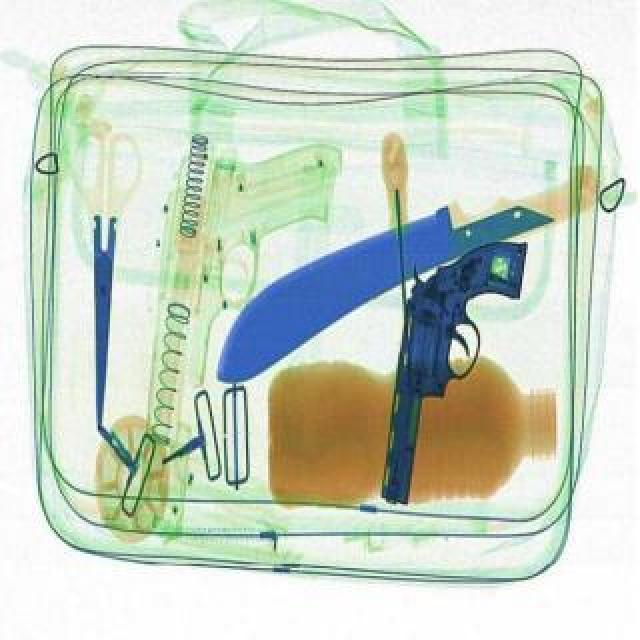gun: (376, 236, 532, 504)
knife: (214, 200, 558, 384)
